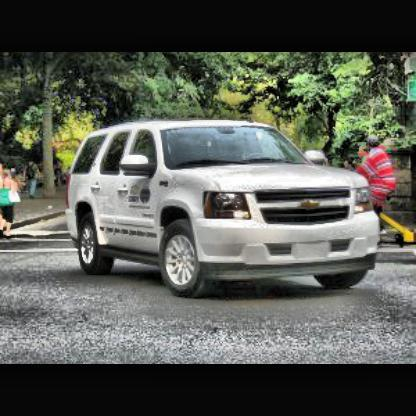Chevrolet Tahoe Hybrid SUV 2012: (67, 124, 387, 301)
